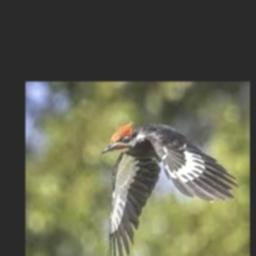Woodpecker: (102, 120, 239, 256)
